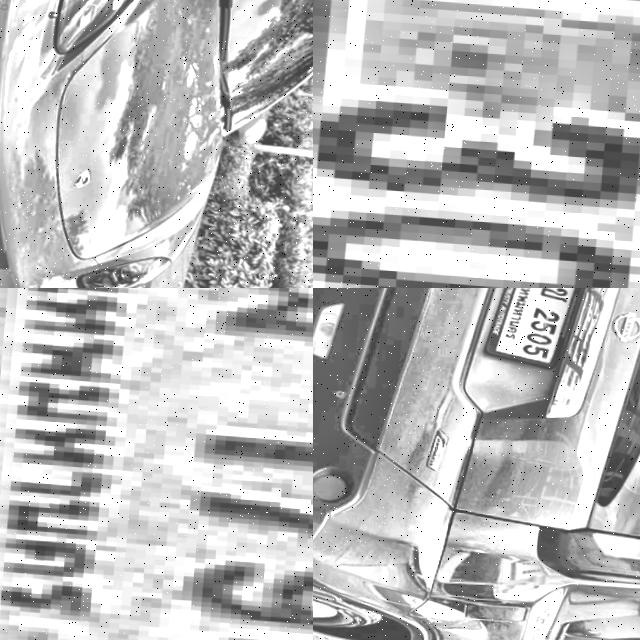license-plate: (0, 288, 313, 640), (313, 0, 640, 288), (481, 288, 593, 369), (0, 161, 20, 260)
